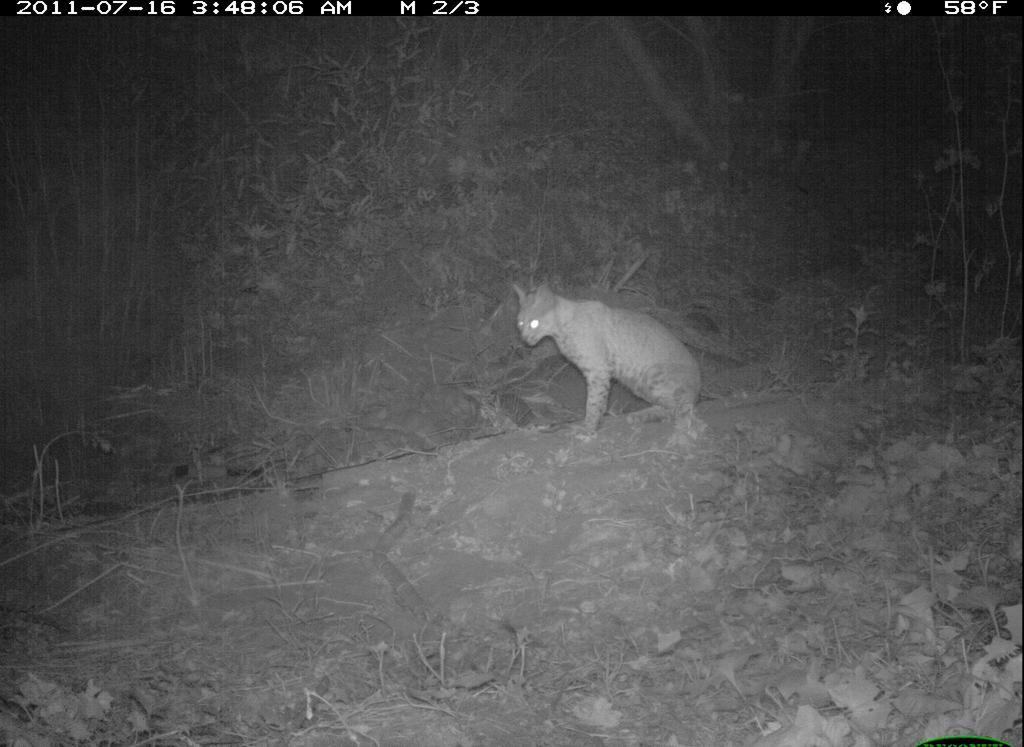bobcat: (495, 269, 730, 479)
